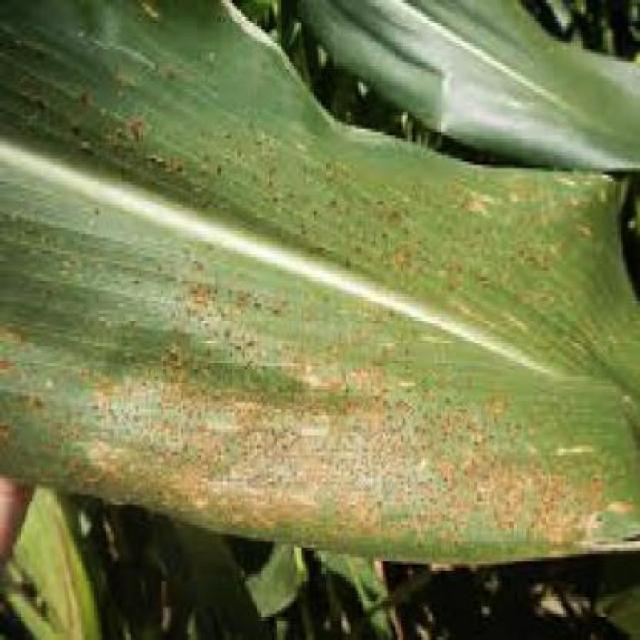Corn_Rust: (3, 12, 640, 591)
